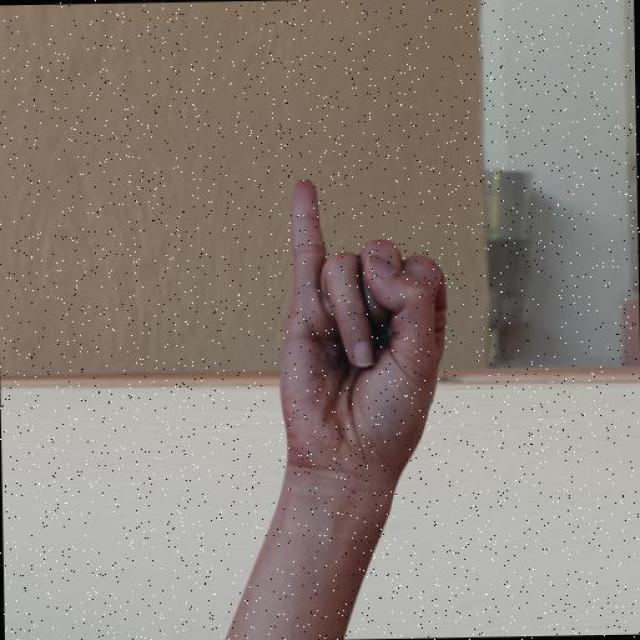I: (241, 140, 489, 566)
